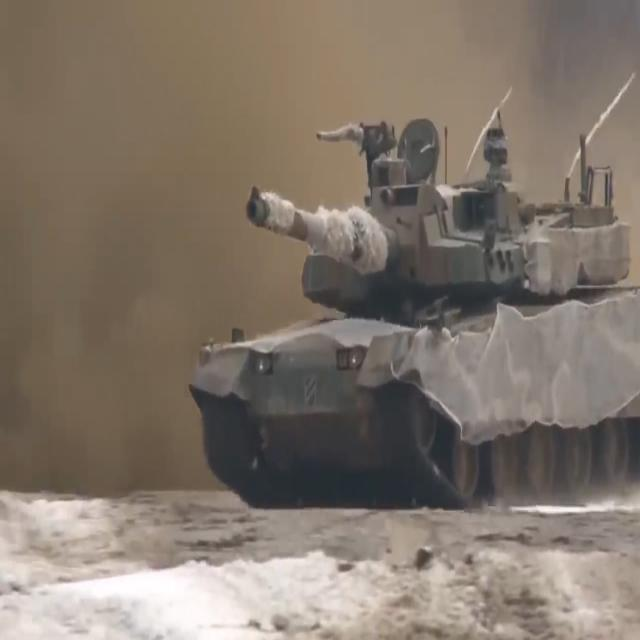korea tank: (183, 108, 640, 514)
